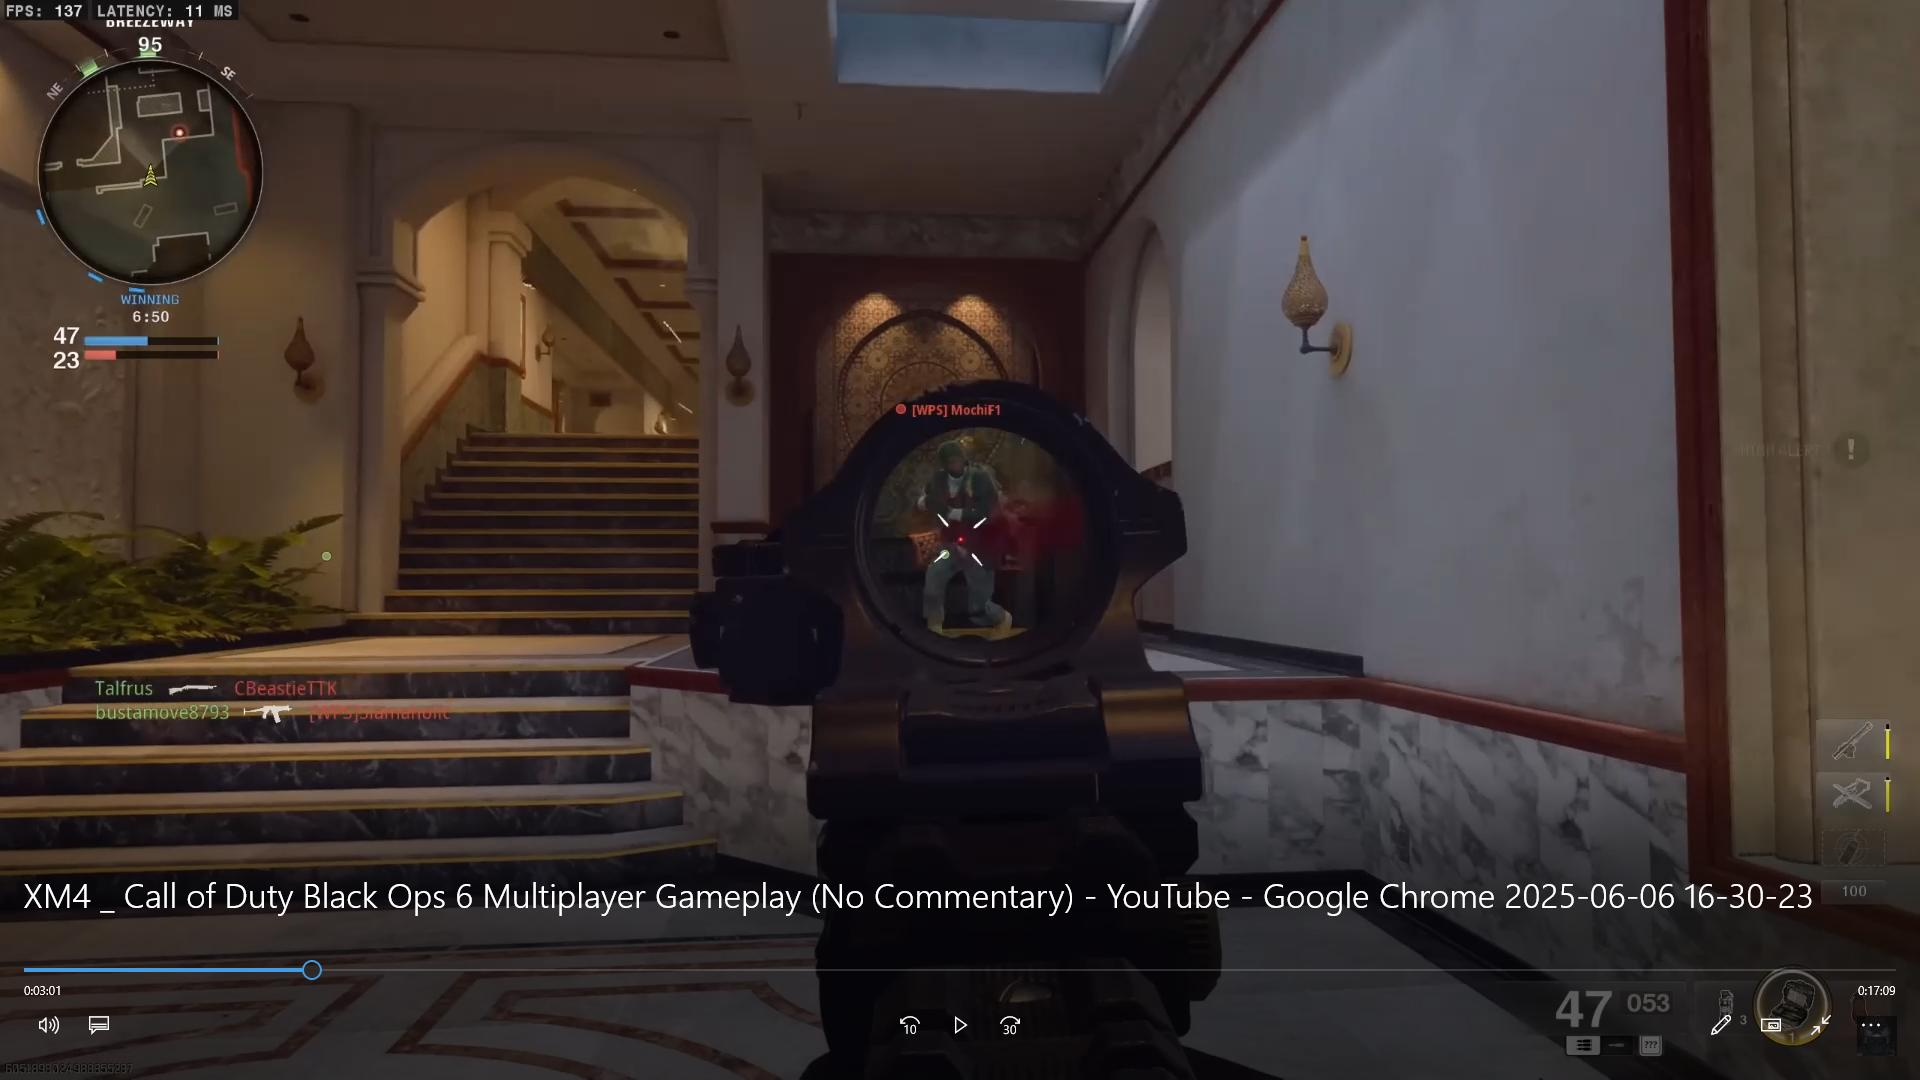Enemy: (911, 430, 1017, 629)
